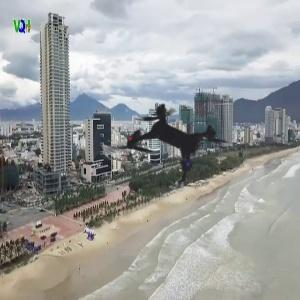drone: (75, 48, 266, 239)
